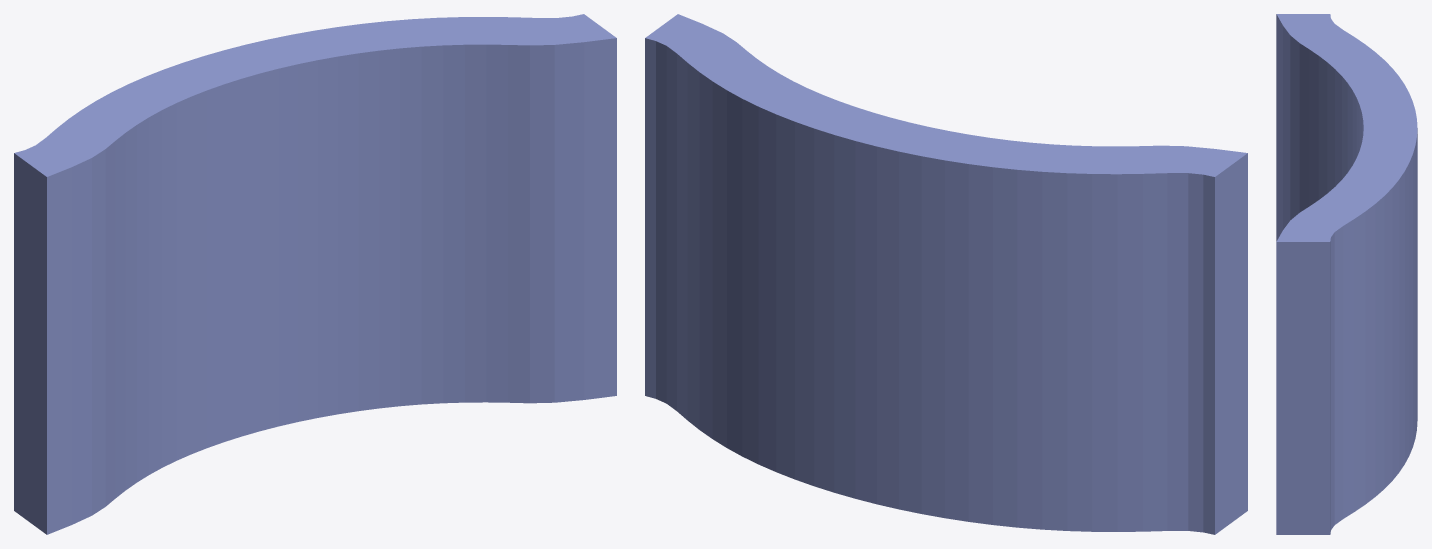
The model's file is warped_sm.fbx.
3 renders of one model, left to right at view 1: azimuth 30°, elevation 25°; view 2: azimuth 150°, elevation 25°; view 3: azimuth 270°, elevation 25°, orthographic. The views are drawn at different scales.
Visible parts, largest first — view 1: warped_sm; view 2: warped_sm; view 3: warped_sm.
Boxes of the visible parts, x1,y1,x2,y2 form: warped_sm: (14, 14, 616, 534); warped_sm: (645, 14, 1247, 534); warped_sm: (1276, 14, 1417, 534).
Size of the model in its own units: 1000 by 600 by 262.
